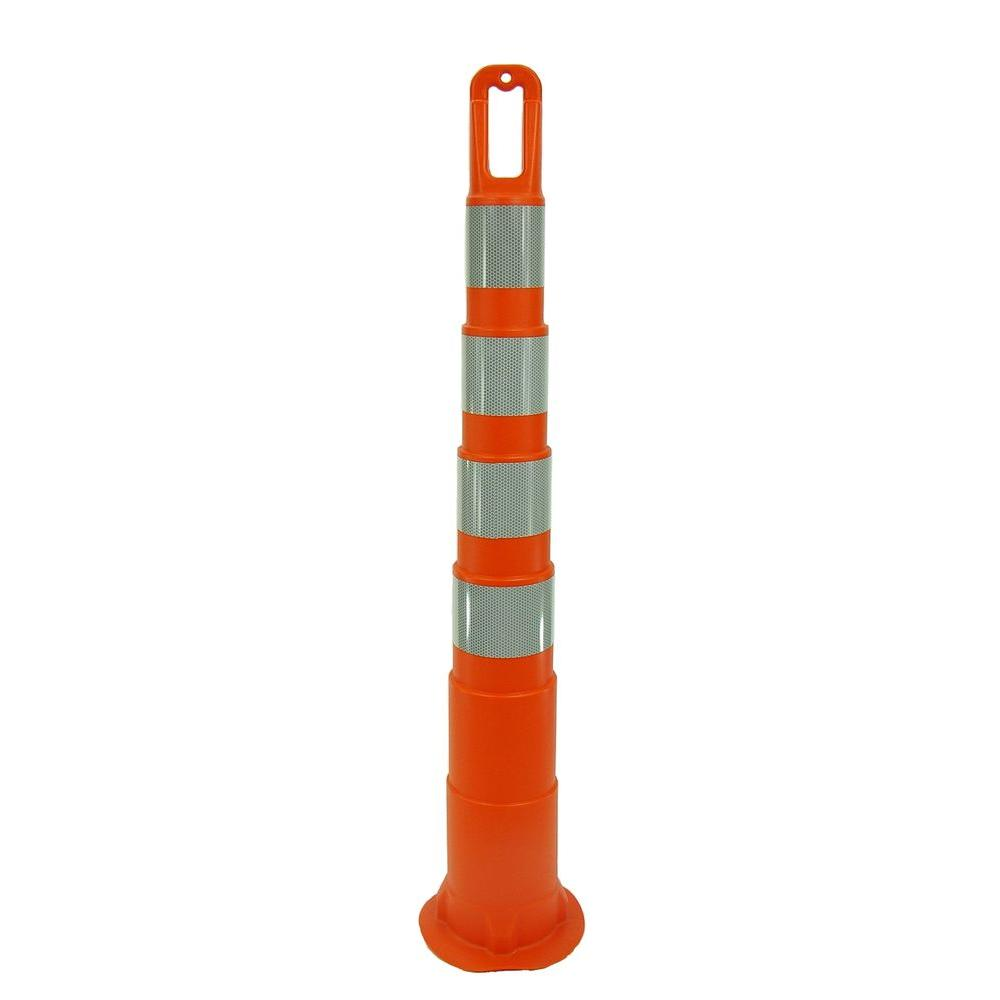orangeC: (351, 38, 650, 983)
